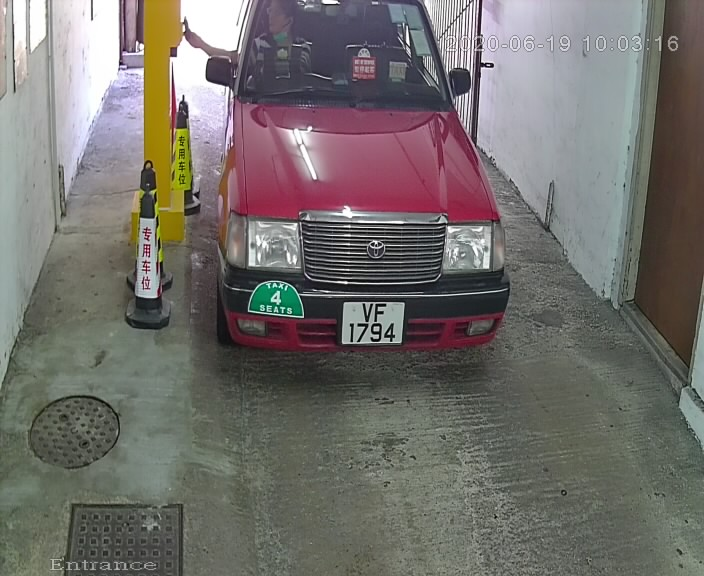taxi: (198, 2, 517, 390)
taxi_mark: (243, 272, 315, 332)
